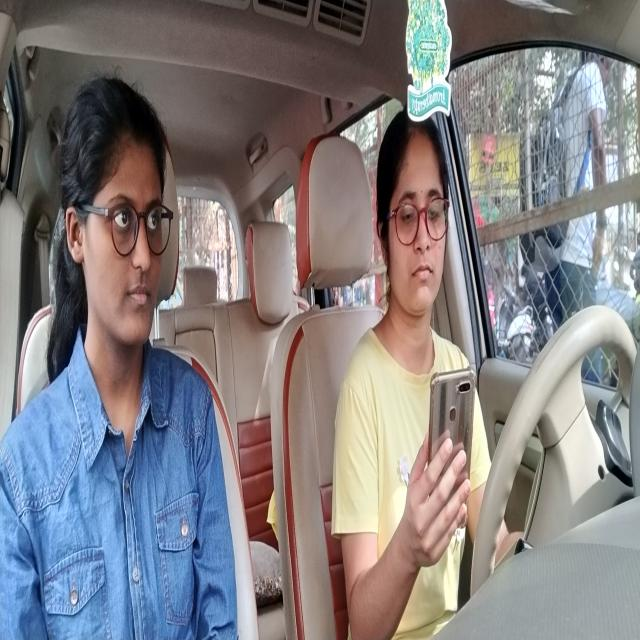mobile: (427, 364, 475, 481)
person: (65, 95, 167, 339), (378, 120, 455, 322)
